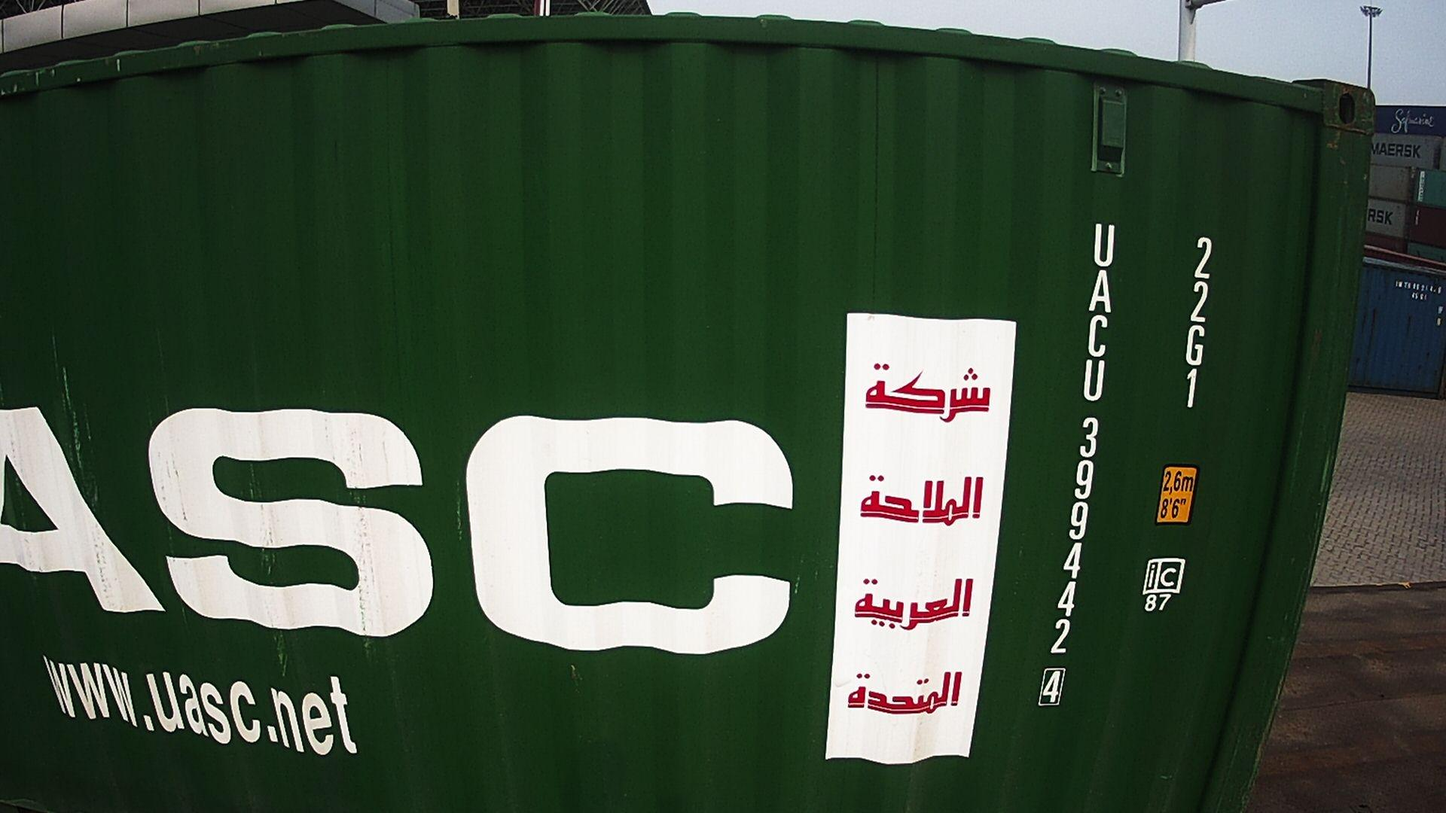container-numbers: (1035, 215, 1115, 711), (1176, 230, 1216, 414)
